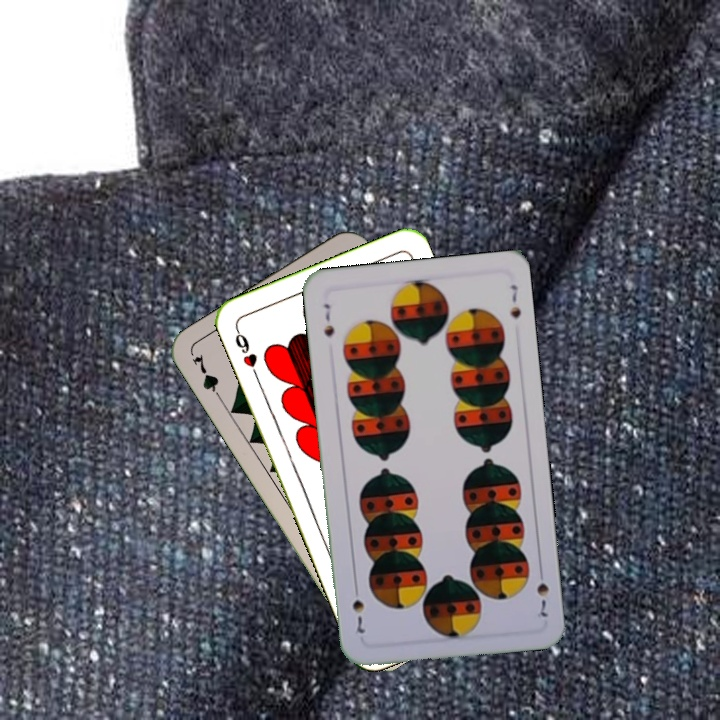G7: (187, 350, 226, 405)
H9: (231, 323, 261, 380)
S7: (531, 563, 552, 620), (319, 299, 337, 340)
